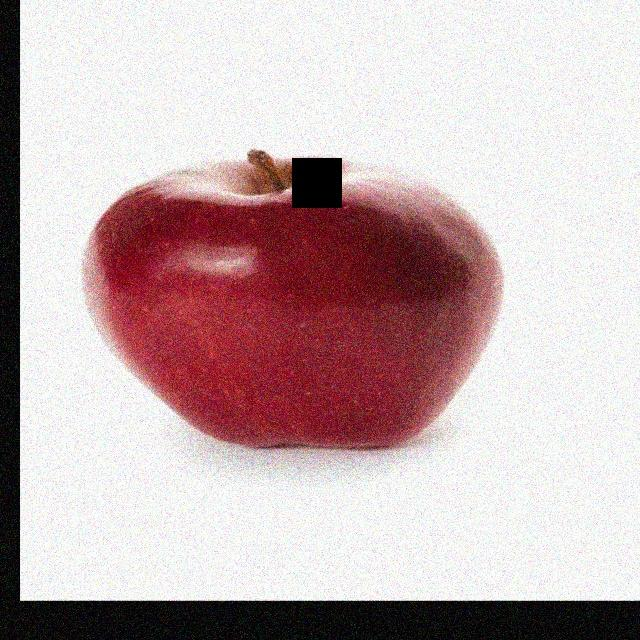red apple: (70, 146, 511, 453)
